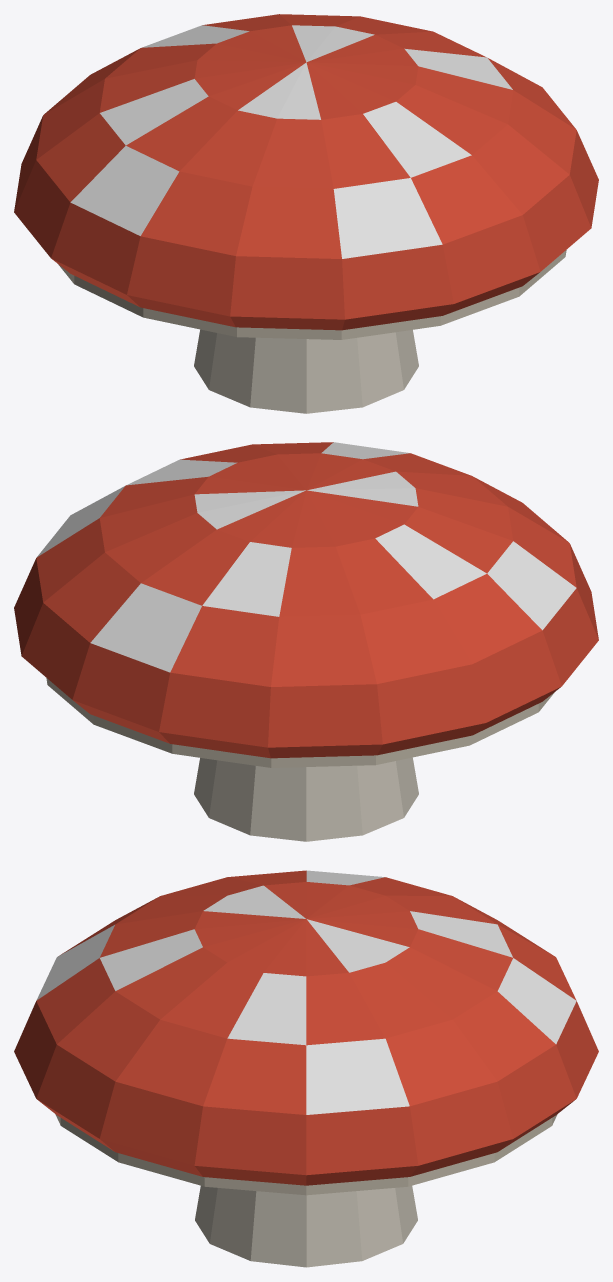
File: bounce-shroom.glb
3 views of the same model, one above another, from view 1: azimuth 30°, elevation 25°; view 2: azimuth 150°, elevation 25°; view 3: azimuth 270°, elevation 25° (orthographic).
Parts seen in each view (by area): view 1: bounce-shroom; view 2: bounce-shroom; view 3: bounce-shroom.
Part boxes in pixels (x1,y1,x2,y2): bounce-shroom: [14, 14, 598, 413]; bounce-shroom: [14, 442, 598, 841]; bounce-shroom: [14, 870, 598, 1267].
Size of the model in its own units: 2.2 by 1.25 by 2.2.
